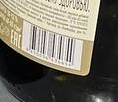1d: (28, 22, 75, 66)
